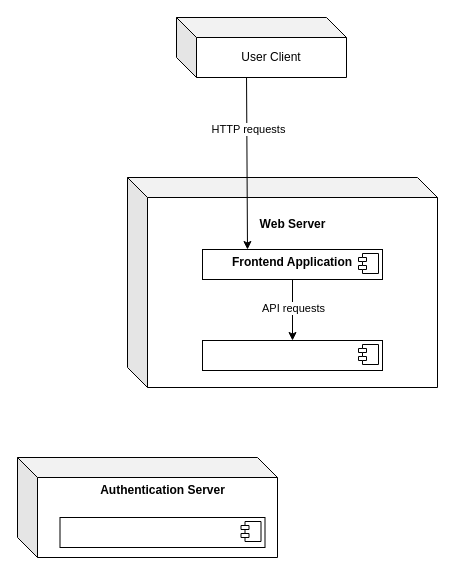
The diagram is 455 pixels wide and 575 high, and some of its shapes have lost their labels. Here are the shapes that lost their labels. From the top down, the centre of each, then its label:
At pixel 292 355: "Backend Application".
At pixel 162 532: "Authentication Services".
